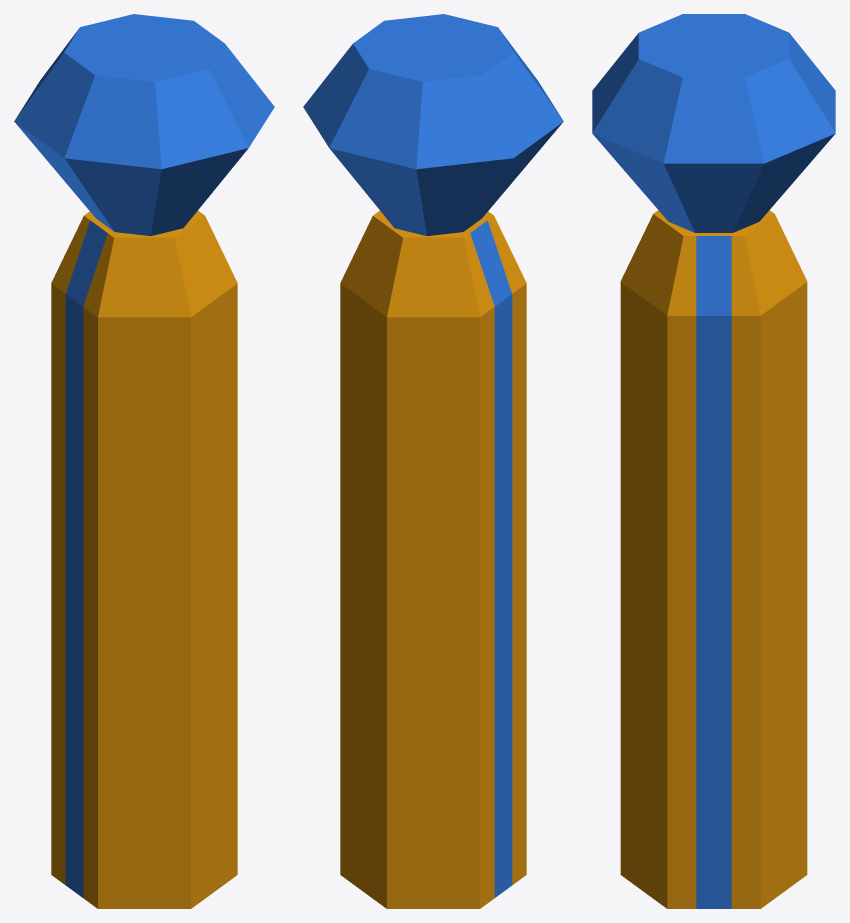
The model's file is LP_PassThroughCrystal.fbx.
3 renders of one model, left to right at view 1: azimuth 30°, elevation 25°; view 2: azimuth 150°, elevation 25°; view 3: azimuth 270°, elevation 25°, orthographic.
Visible parts, largest first — view 1: Pole, Crystal; view 2: Pole, Crystal; view 3: Pole, Crystal.
Boxes of the visible parts, box(x1,y1,x2,y2) form: Pole: box(51, 210, 237, 908); Crystal: box(14, 14, 274, 235); Pole: box(340, 210, 526, 908); Crystal: box(303, 14, 563, 235); Pole: box(620, 210, 807, 908); Crystal: box(592, 14, 835, 232).
Bounding box in the file's own units: 0.6514 × 2.45 × 0.6514.
